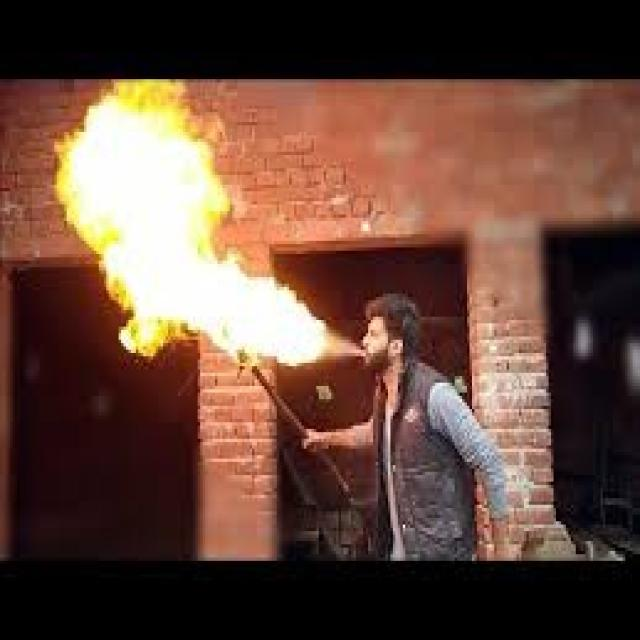fire: (52, 81, 239, 359), (241, 276, 363, 366)
